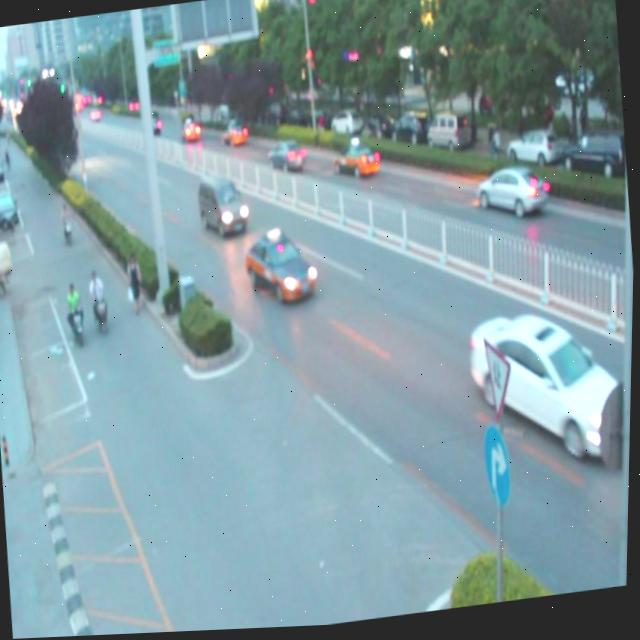car: (464, 302, 634, 476), (243, 226, 315, 310), (475, 166, 547, 227), (332, 142, 381, 184), (265, 138, 307, 176), (219, 117, 247, 149), (180, 118, 199, 144)
truck: (196, 168, 250, 241)
